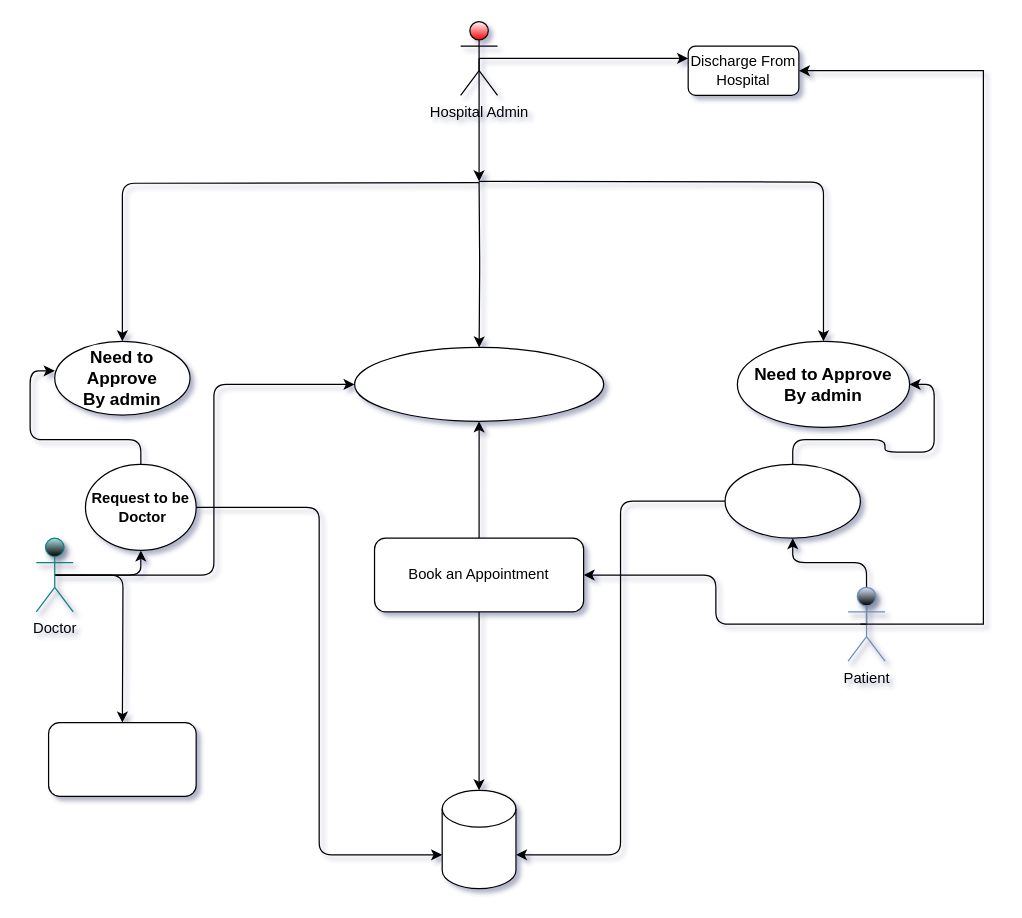
Image size: 1022x918. Some labels were removed from this diagram. The centre of each missing label's shape, as x and y in pixels:
"Check Patient" belongs at (121,758).
"Data Base Sqlite" belongs at (478,839).
"Needed to be approved" belongs at (478,383).
"Request to Admit" belongs at (792,500).
